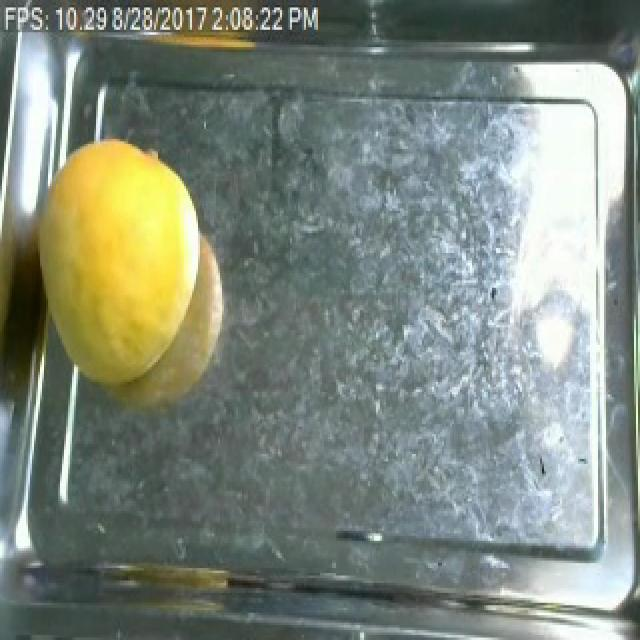fruit: (22, 134, 234, 407)
